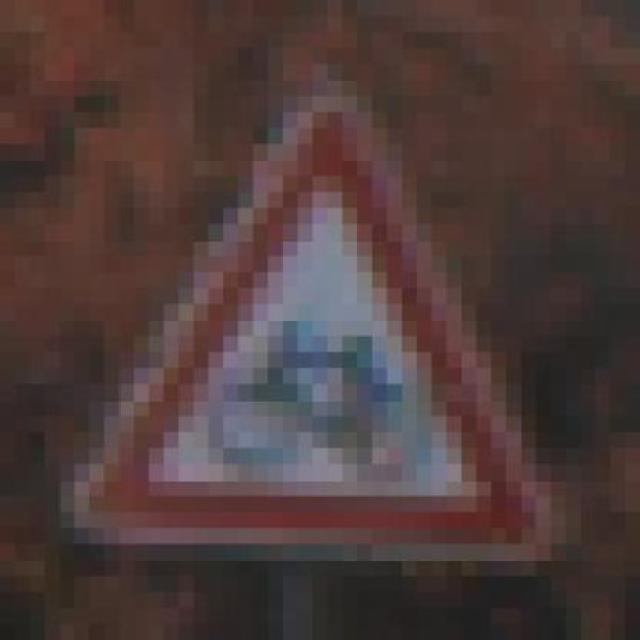CYCLE ROUTE AHEAD WARNING: (59, 80, 566, 592)
